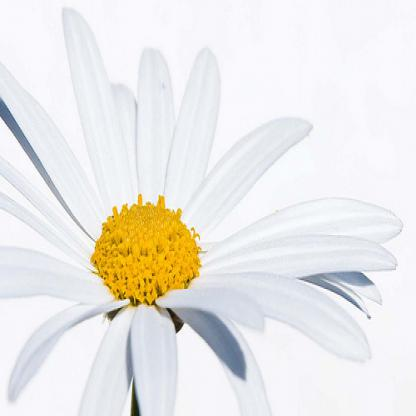ASTER: (11, 4, 398, 404)
